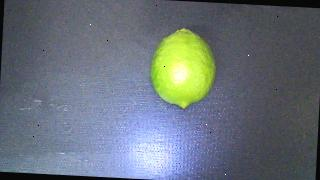EXPORTACION: (150, 27, 218, 110)
